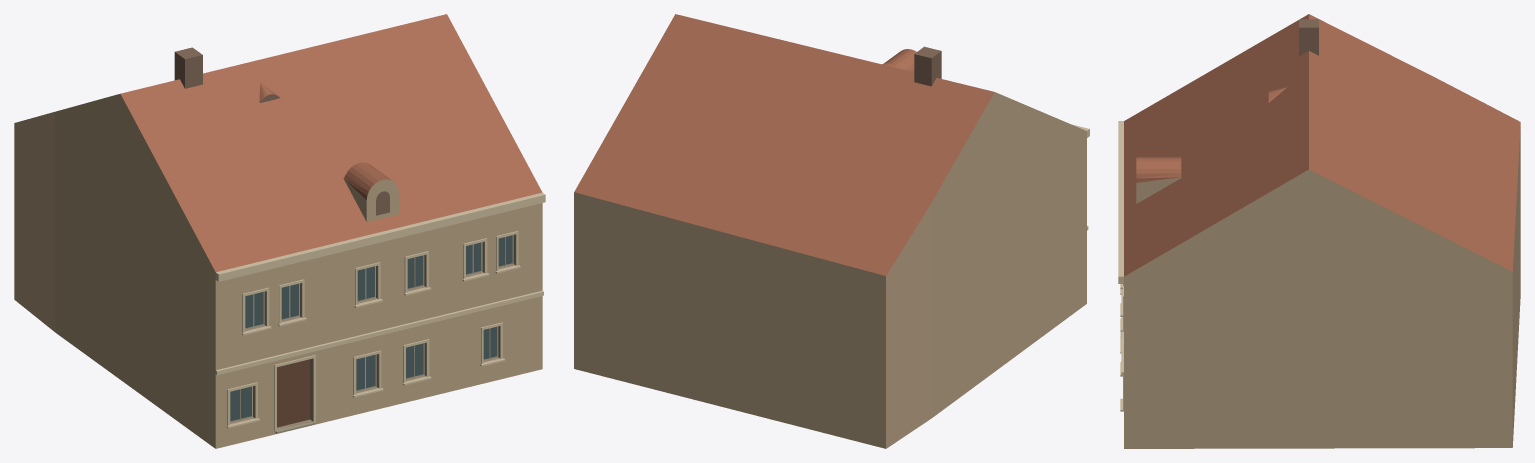
Rendered from 261-gpt-pruceli-v1.glb.
The picture shows the model from 3 angles, left to right: view 1: azimuth 30°, elevation 25°; view 2: azimuth 150°, elevation 25°; view 3: azimuth 270°, elevation 25°; orthographic projection. The views are drawn at different scales.
Parts seen in each view (by area): view 1: Strecha, Pruceli, Hmota, Stresni_prvky; view 2: Hmota, Strecha, Stresni_prvky; view 3: Hmota, Strecha, Pruceli, Stresni_prvky.
Boxes of the visible parts, box(x1,y1,x2,y2) form: Strecha: box(120, 14, 542, 271); Pruceli: box(215, 192, 545, 448); Hmota: box(14, 94, 398, 448); Stresni_prvky: box(174, 47, 389, 215); Hmota: box(574, 92, 1086, 448); Strecha: box(574, 14, 994, 275); Stresni_prvky: box(914, 46, 941, 86); Hmota: box(1124, 127, 1520, 448); Strecha: box(1124, 14, 1520, 276); Pruceli: box(1118, 121, 1123, 411); Stresni_prvky: box(1299, 19, 1318, 56).
Size of the model in its own units: 13.79 by 12.45 by 15.03.
